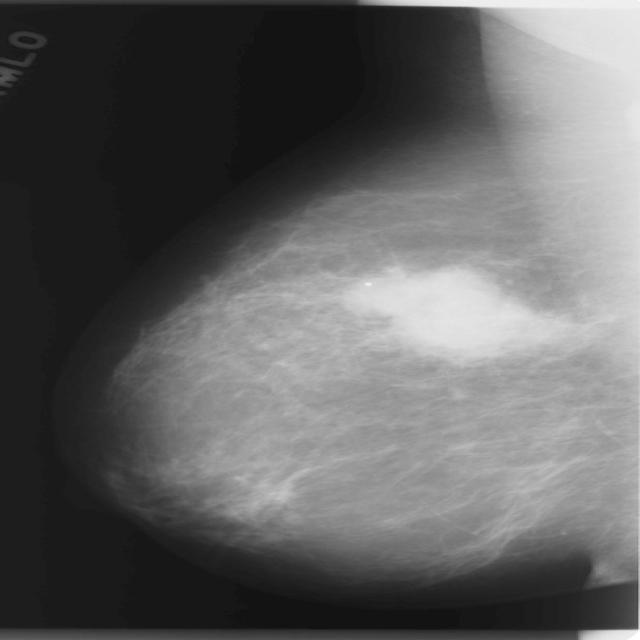tumour: (362, 266, 547, 360)
